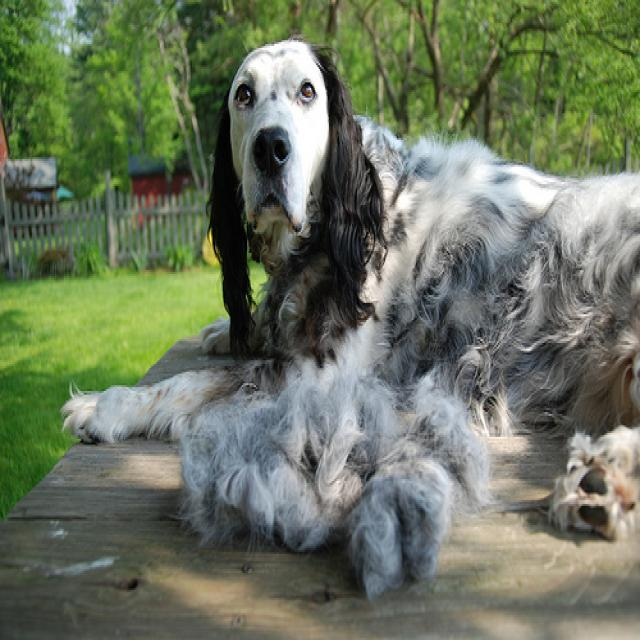dog-english_setter: (55, 27, 637, 611)
